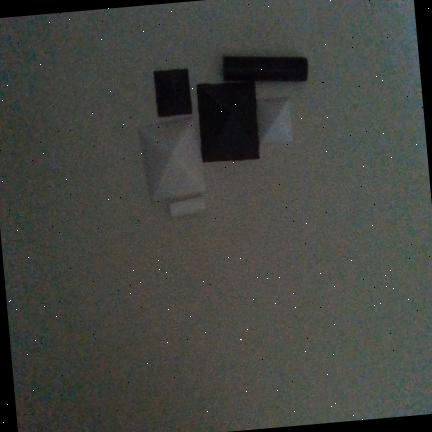Cilindro: (223, 56, 308, 82), (168, 195, 208, 218)
Piramide: (137, 115, 207, 204), (197, 80, 260, 164), (154, 69, 192, 118), (256, 97, 294, 144)
